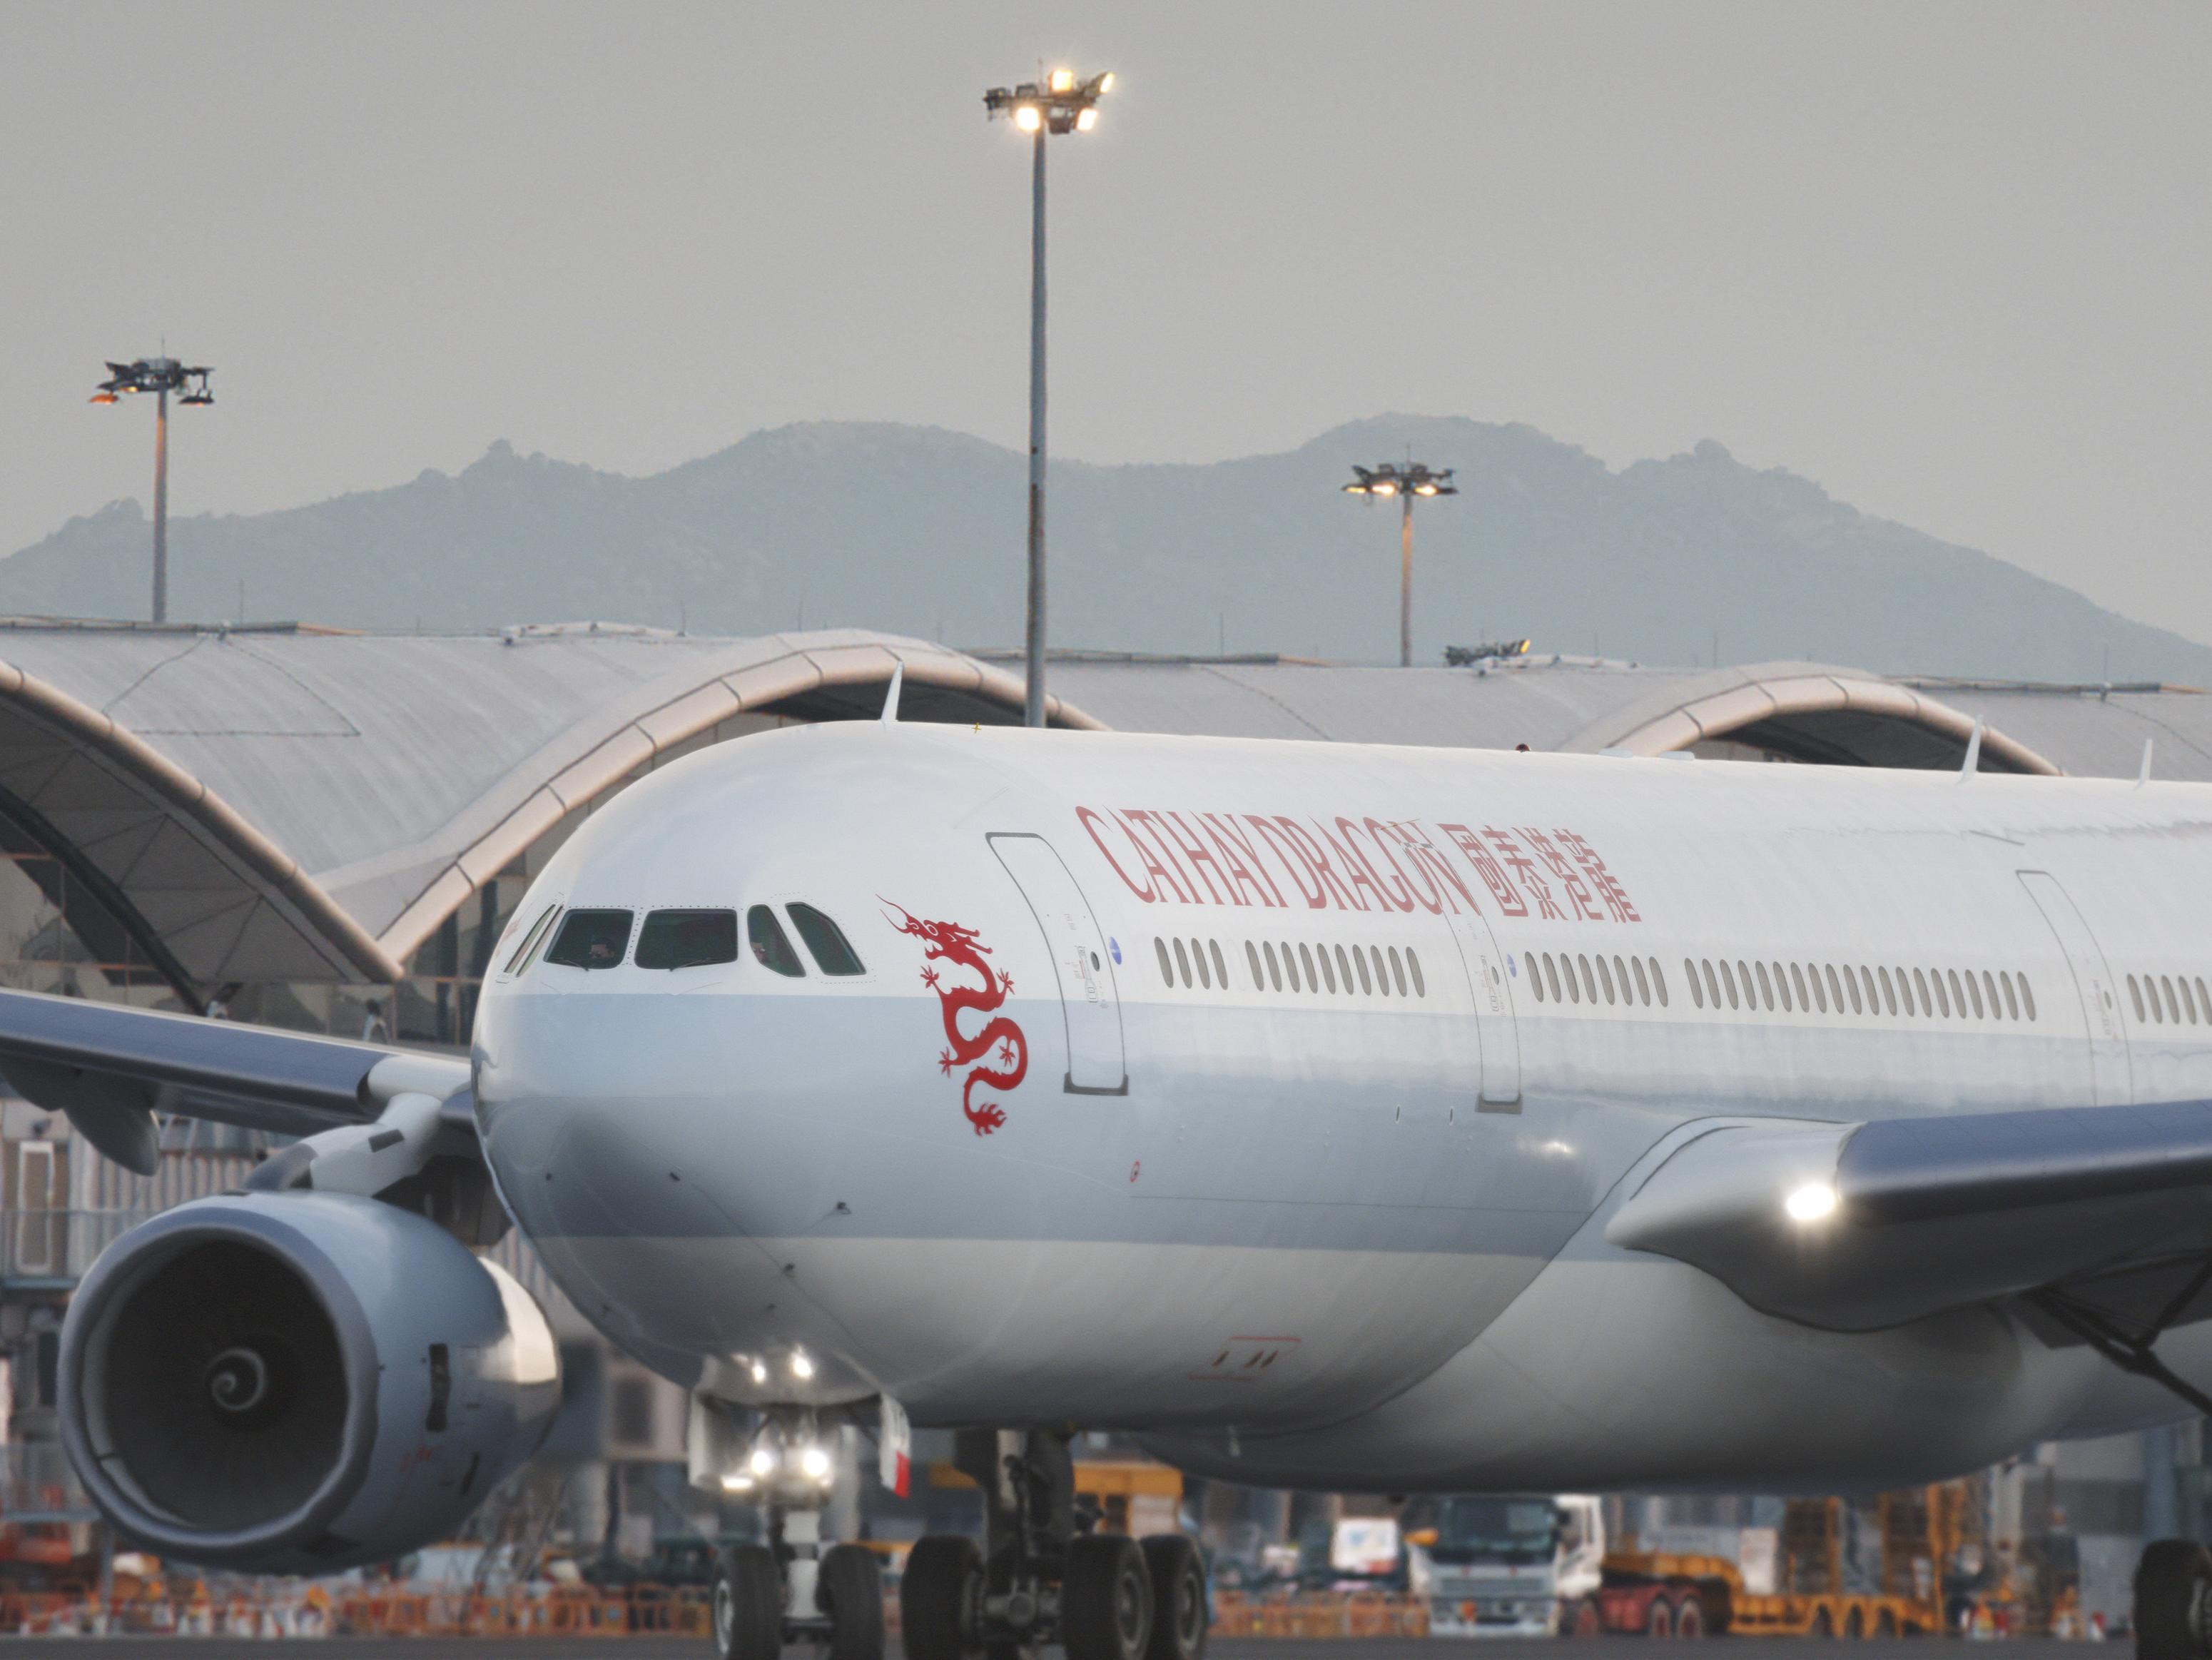airplane: (0, 689, 2212, 1573)
